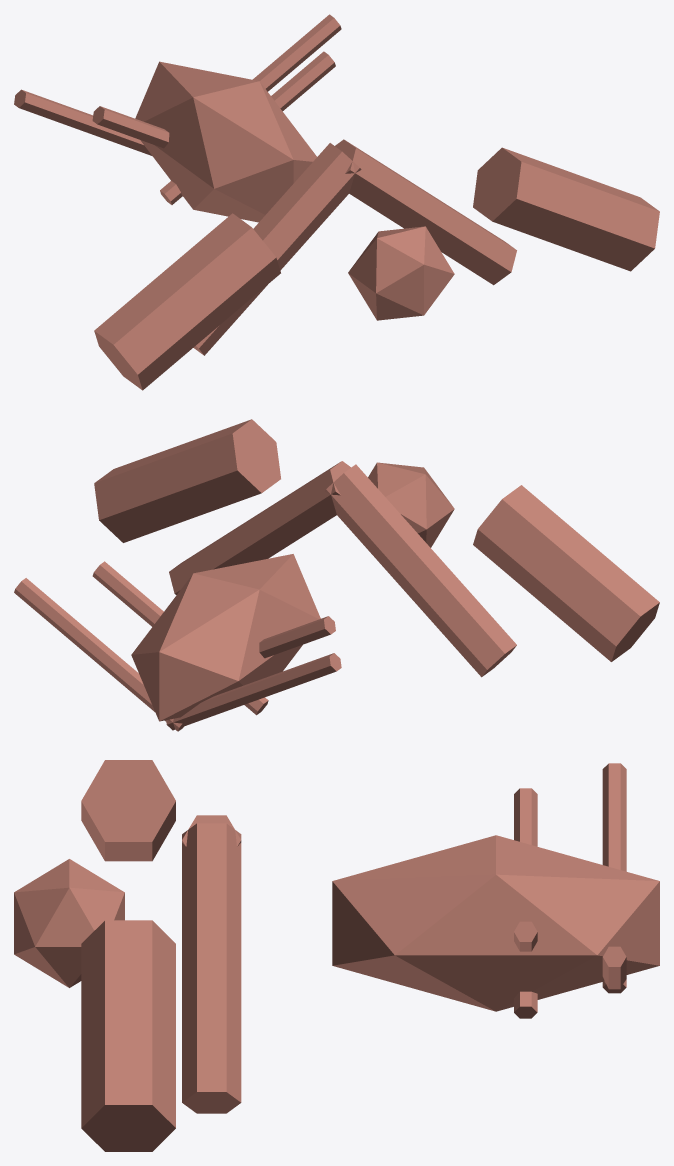
The model's file is lobster.glb.
3 renders of one model, top to bottom at view 1: azimuth 30°, elevation 25°; view 2: azimuth 150°, elevation 25°; view 3: azimuth 270°, elevation 25°, orthographic. The views are drawn at different scales.
Parts seen in each view (by area): view 1: world; view 2: world; view 3: world.
Boxes of the visible parts, <box> form: world: <box>14,14,659,390</box>; world: <box>14,419,659,731</box>; world: <box>14,760,659,1151</box>.
Bounding box in the file's own units: 1.3 × 0.3877 × 1.09.
